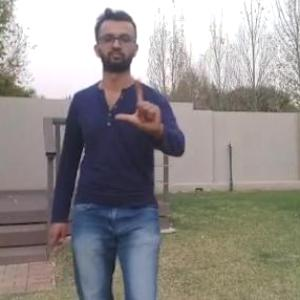land_hand: (113, 74, 168, 138)
